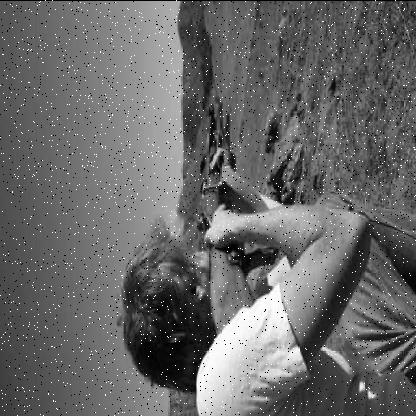rifle: (181, 82, 278, 342)
